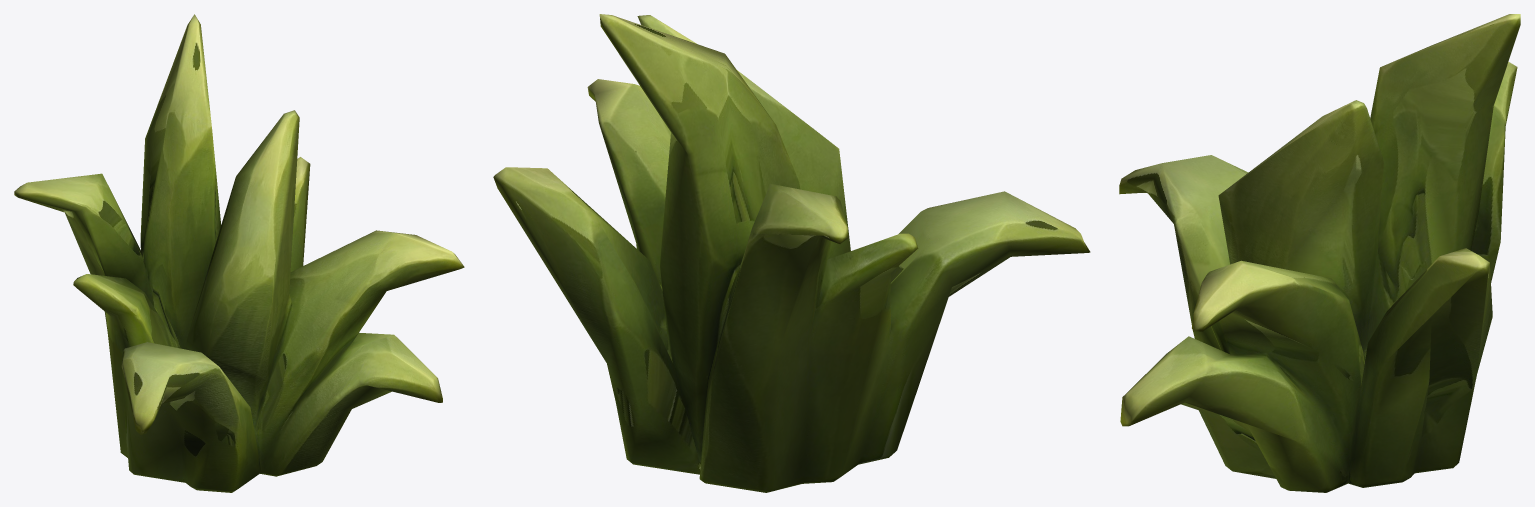
File: LL_GrassTuft.fbx
3 renders of one model, left to right at view 1: azimuth 30°, elevation 25°; view 2: azimuth 150°, elevation 25°; view 3: azimuth 270°, elevation 25°, orthographic. The views are drawn at different scales.
Visible parts, largest first — view 1: tripo_node_9de756d6; view 2: tripo_node_9de756d6; view 3: tripo_node_9de756d6.
Part boxes in pixels (<box>): tripo_node_9de756d6: <box>14,14,464,492</box>; tripo_node_9de756d6: <box>493,14,1090,492</box>; tripo_node_9de756d6: <box>1119,14,1520,492</box>.
Size of the model in its own units: 97.72 by 77.45 by 97.72.
Materials: 1 (1 with a texture image).
